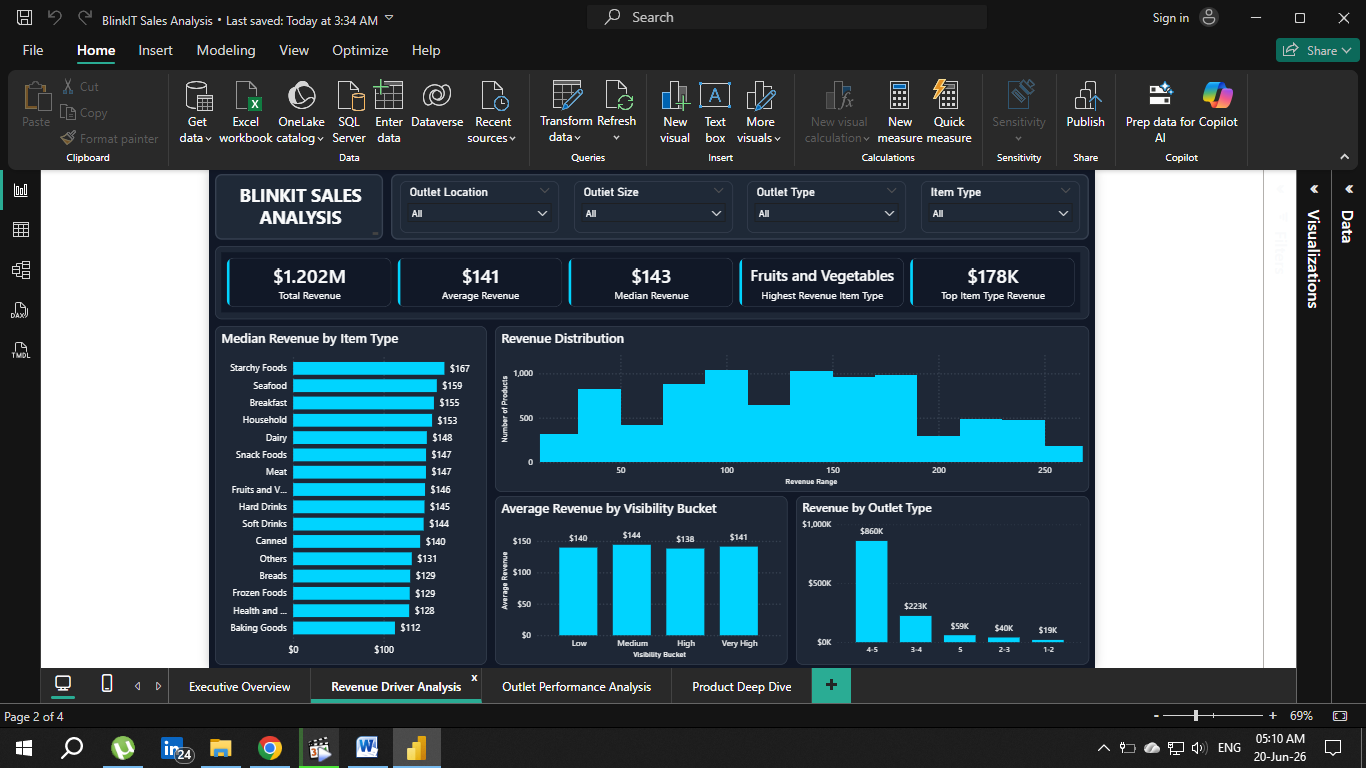

Layout of this report page (visuals, bound fields, positions):
{"tool":"powerbi","page":{"name":"Revenue  Driver  Analysis","canvas":[1280,720],"ordinal":1},"visuals":[{"type":"textbox","box":[263.1,5.3,1009.2,95],"z":0},{"type":"clusteredColumnChart","title":"Revenue Distribution","fields":{"Category":["sales_cleaned.revenue (bins)"],"Y":["CountNonNull(sales_cleaned.item_id)"]},"box":[413.5,225.5,858.8,240],"z":1000},{"type":"cardVisual","fields":{"Data":["sales_cleaned.Total Revenue","sales_cleaned.Average Revenue","sales_cleaned.Median Revenue","sales_cleaned.Highest Revenue Item Type","sales_cleaned.Top Category Revenue"]},"box":[8.7,110.3,1263.6,105.5],"z":2000},{"type":"textbox","title":"BLINKIT SALES ANALYSIS","box":[8.7,5.3,242.9,95],"z":3000},{"type":"clusteredBarChart","title":"Median Revenue by Item Type","fields":{"Category":["sales_cleaned.item_type"],"Y":["sales_cleaned.Median Revenue"]},"box":[8.7,225.5,393.3,490.1],"z":4000},{"type":"slicer","title":"Outlet Type","fields":{"Values":["sales_cleaned.outlet_type"]},"box":[778.3,15.9,229.9,75.2],"z":5000},{"type":"slicer","title":"Outlet Type","fields":{"Values":["sales_cleaned.item_type"]},"box":[1029.4,15.9,229.9,75.2],"z":6000},{"type":"slicer","title":"Outlet Type","fields":{"Values":["sales_cleaned.outlet_size"]},"box":[527.2,15.9,229.9,75.2],"z":7000},{"type":"slicer","title":"Outlet Type","fields":{"Values":["sales_cleaned.outlet_location"]},"box":[276.1,15.9,229.9,75.2],"z":8000},{"type":"clusteredColumnChart","fields":{"Category":["sales_cleaned.Visibility Bucket"],"Y":["sales_cleaned.Average Revenue"]},"box":[413.8,471.3,423,244.3],"z":9000},{"type":"clusteredColumnChart","title":"Revenue by Outlet Type","fields":{"Y":["sales_cleaned.Total Revenue"],"Category":["sales_cleaned.Rating Bucket"]},"box":[848.7,471.3,423.6,244.3],"z":10001}]}

Visuals, with their boxes on the page's 1280x720 design canvas (x1, y1, x2, y2). These are canvas units, not pixel positions in the 1366x768 screenshot, which may show the page scaled, cropped or inside an application window:
textbox: select_region(263, 5, 1272, 100)
"Revenue Distribution" clusteredColumnChart: select_region(414, 226, 1272, 466)
cardVisual - sales_cleaned.Total Revenue x sales_cleaned.Average Revenue: select_region(9, 110, 1272, 216)
"BLINKIT SALES ANALYSIS" textbox: select_region(9, 5, 252, 100)
"Median Revenue by Item Type" clusteredBarChart: select_region(9, 226, 402, 716)
"Outlet Type" slicer: select_region(778, 16, 1008, 91)
"Outlet Type" slicer: select_region(1029, 16, 1259, 91)
"Outlet Type" slicer: select_region(527, 16, 757, 91)
"Outlet Type" slicer: select_region(276, 16, 506, 91)
clusteredColumnChart - sales_cleaned.Visibility Bucket x sales_cleaned.Average Revenue: select_region(414, 471, 837, 716)
"Revenue by Outlet Type" clusteredColumnChart: select_region(849, 471, 1272, 716)
